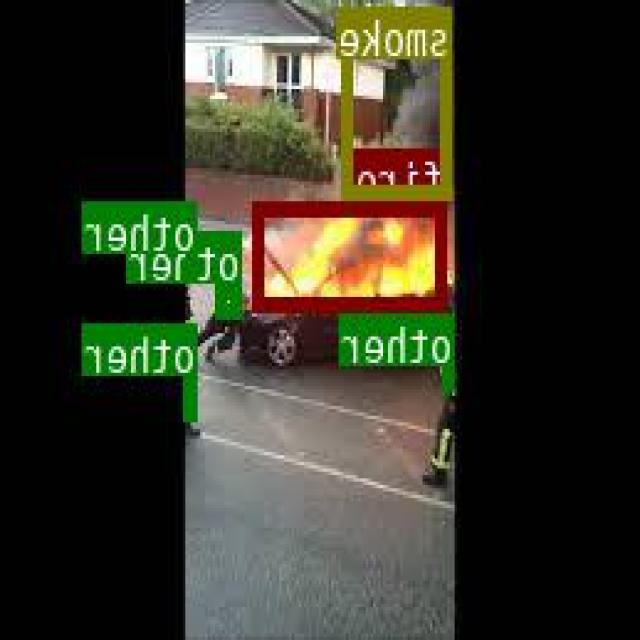fire: (257, 201, 448, 310)
other: (219, 283, 244, 315), (188, 374, 200, 419), (188, 254, 198, 278), (445, 364, 455, 386)
smoke: (344, 4, 454, 196)
